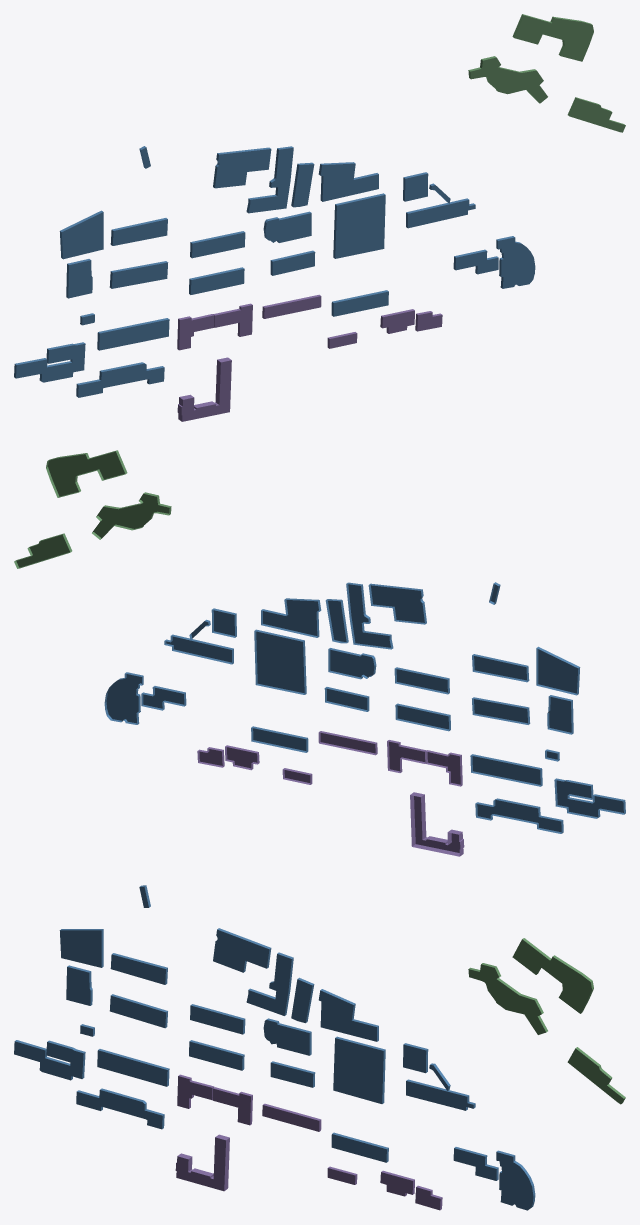
Rendered from buildings_k17.obj.
3 renders of one model, top to bottom at view 1: azimuth 30°, elevation 25°; view 2: azimuth 150°, elevation 25°; view 3: azimuth 330°, elevation 25°, orthographic.
Visible parts, largest first — view 1: roof4, roof3, roof5, zone4, zone5, zone3; view 2: roof4, zone4, roof3, roof5, zone5, zone3; view 3: roof4, zone4, roof3, roof5, zone5, zone3.
Boxes of the visible parts, x1=… form: roof4: x1=16, y1=147, x2=535, y2=397; roof3: x1=470, y1=15, x2=625, y2=132; roof5: x1=179, y1=296, x2=442, y2=421; zone4: x1=14, y1=146, x2=521, y2=397; zone5: x1=177, y1=294, x2=442, y2=421; zone3: x1=468, y1=14, x2=625, y2=125; roof4: x1=106, y1=584, x2=623, y2=832; zone4: x1=104, y1=582, x2=625, y2=833; roof3: x1=16, y1=451, x2=169, y2=567; roof5: x1=199, y1=733, x2=460, y2=852; zone5: x1=197, y1=731, x2=464, y2=856; zone3: x1=14, y1=450, x2=171, y2=568; roof4: x1=14, y1=886, x2=533, y2=1210; zone4: x1=15, y1=885, x2=535, y2=1207; roof3: x1=468, y1=939, x2=623, y2=1104; roof5: x1=175, y1=1076, x2=440, y2=1210; zone5: x1=176, y1=1074, x2=442, y2=1210; zone3: x1=469, y1=938, x2=625, y2=1103.
Size of the model in its own units: 769 by 389 by 8.5.
